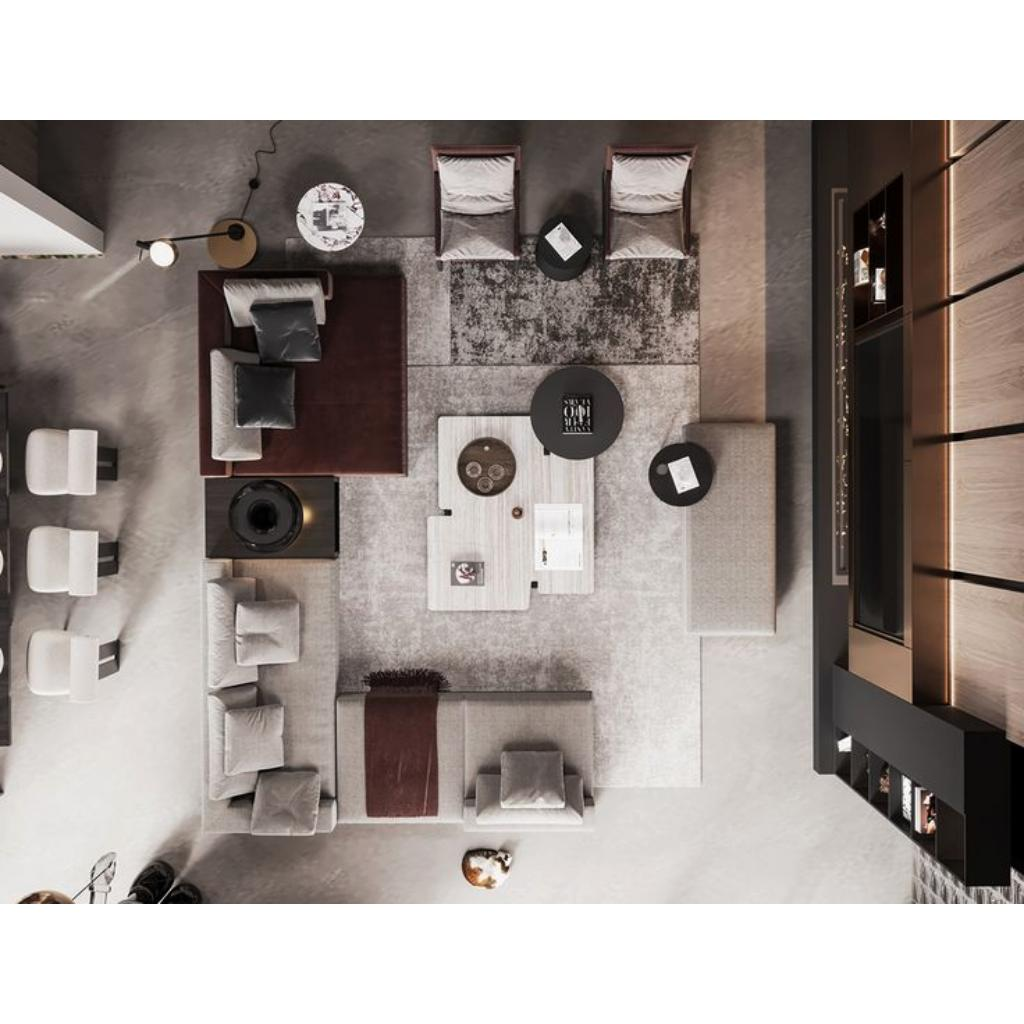TV stand: (811, 120, 1007, 676)
bookshelf: (816, 678, 1008, 888)
chair: (603, 146, 695, 262), (436, 145, 522, 267)
chair-bed: (196, 267, 408, 477)
coffee table: (428, 366, 622, 610)
floor lamp: (204, 220, 256, 262)
ottoman: (684, 423, 774, 637)
rug: (280, 238, 702, 788)
side table: (203, 476, 335, 556), (296, 182, 364, 250), (533, 216, 595, 282)
sofa: (202, 558, 336, 834), (340, 696, 592, 826)
